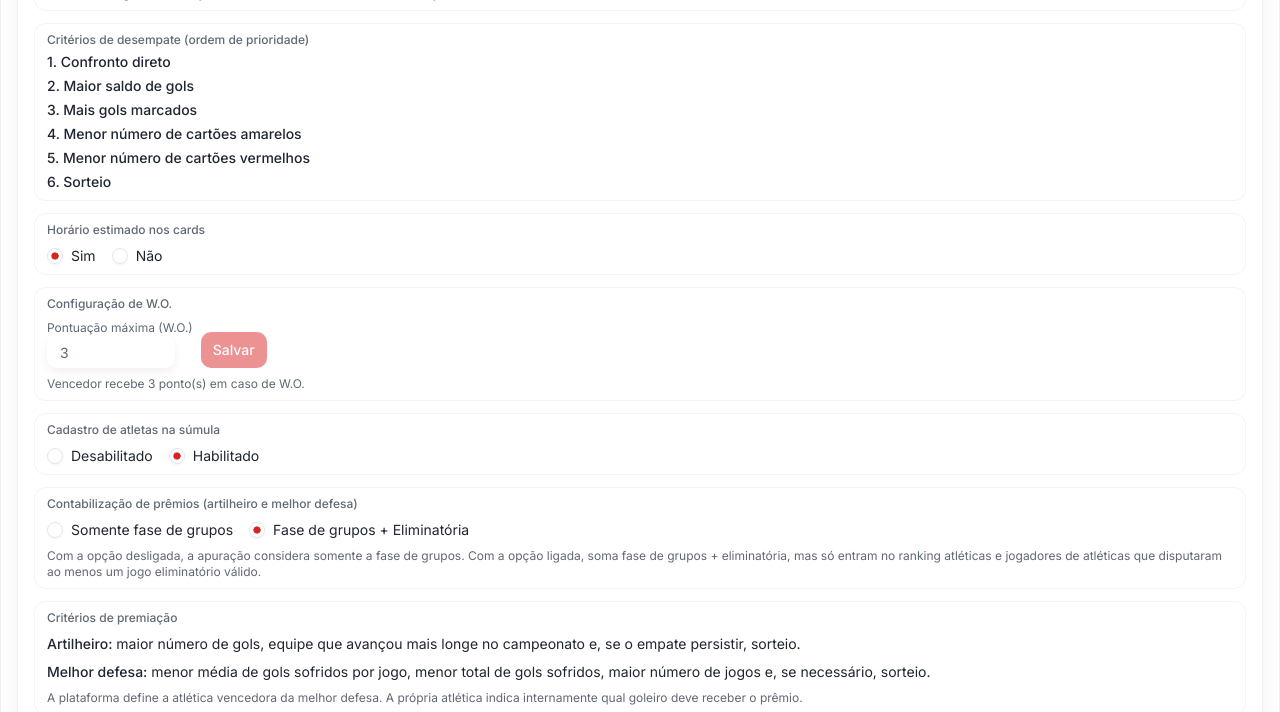
Test: AdminSports › desabilita novamente o botão de salvar W.O. após persistir a configuração
The image size is (1280, 712).
(page scrolled)
Replace the text in the number field showing "3" with "4" at (111, 352), box [47, 336, 175, 368]
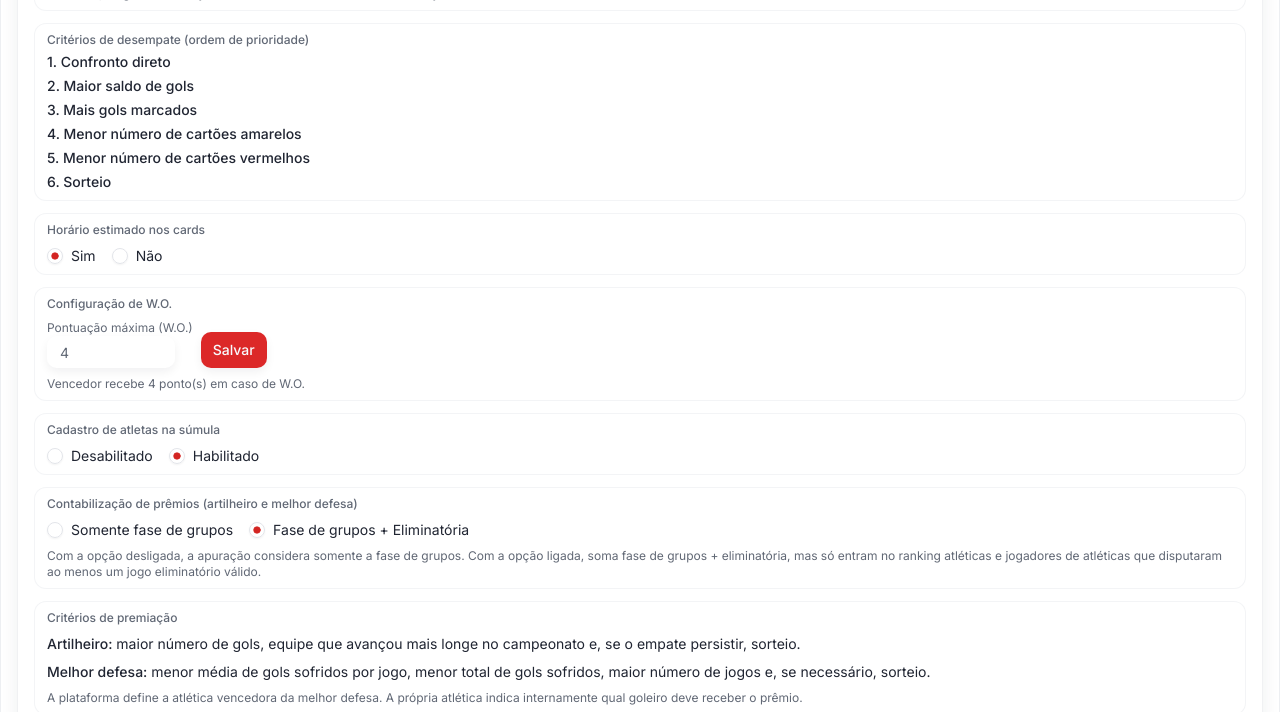
Check: the button "Salvar" is enabled
Click the button "Salvar" at (234, 350), box [201, 332, 267, 368]
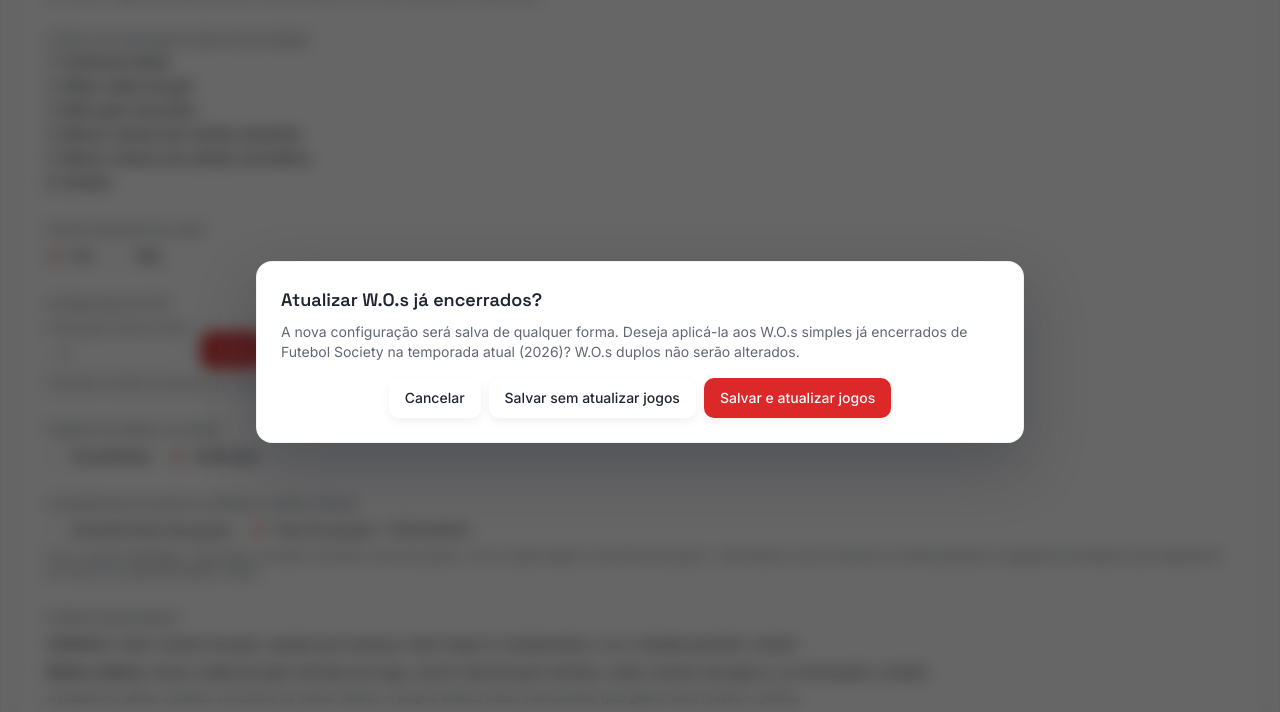
Check: the heading "Atualizar W.O.s já encerrados?" is shown, box [281, 288, 542, 311]
Click the button "Salvar sem atualizar jogos" at (592, 398), box [489, 378, 696, 418]
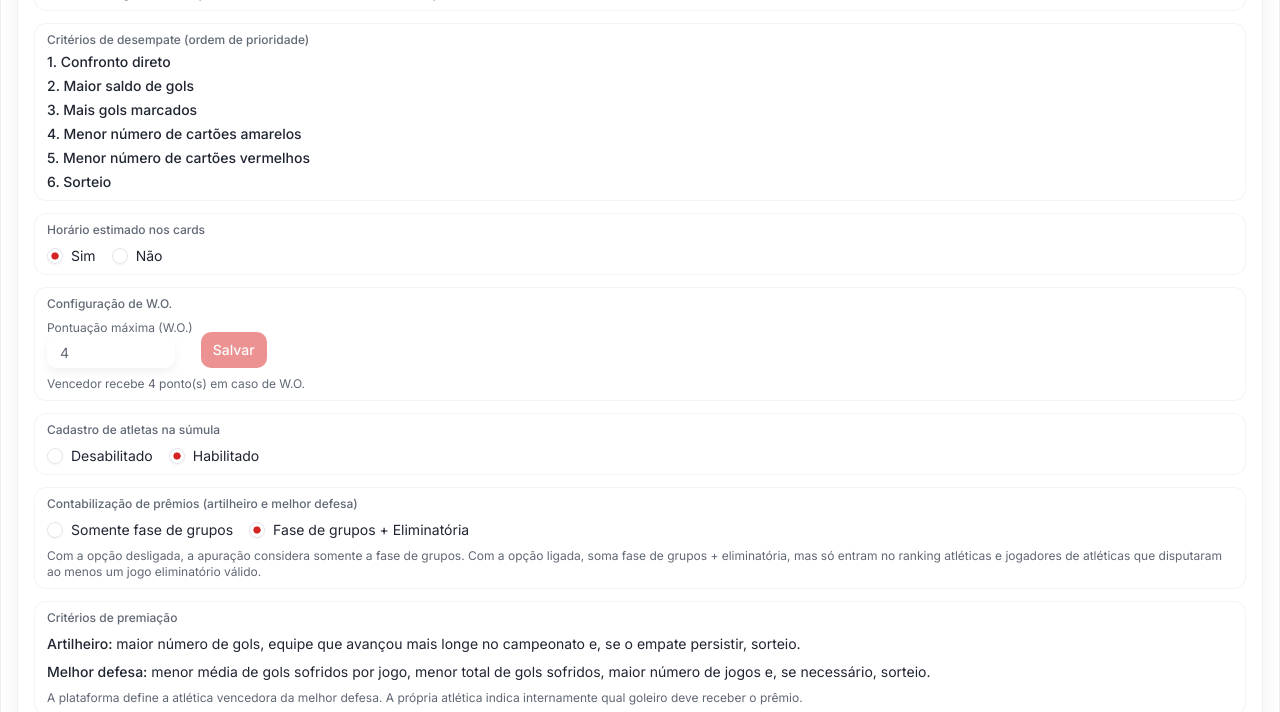
Check: the button "Salvar" is disabled, box [201, 332, 267, 368]
